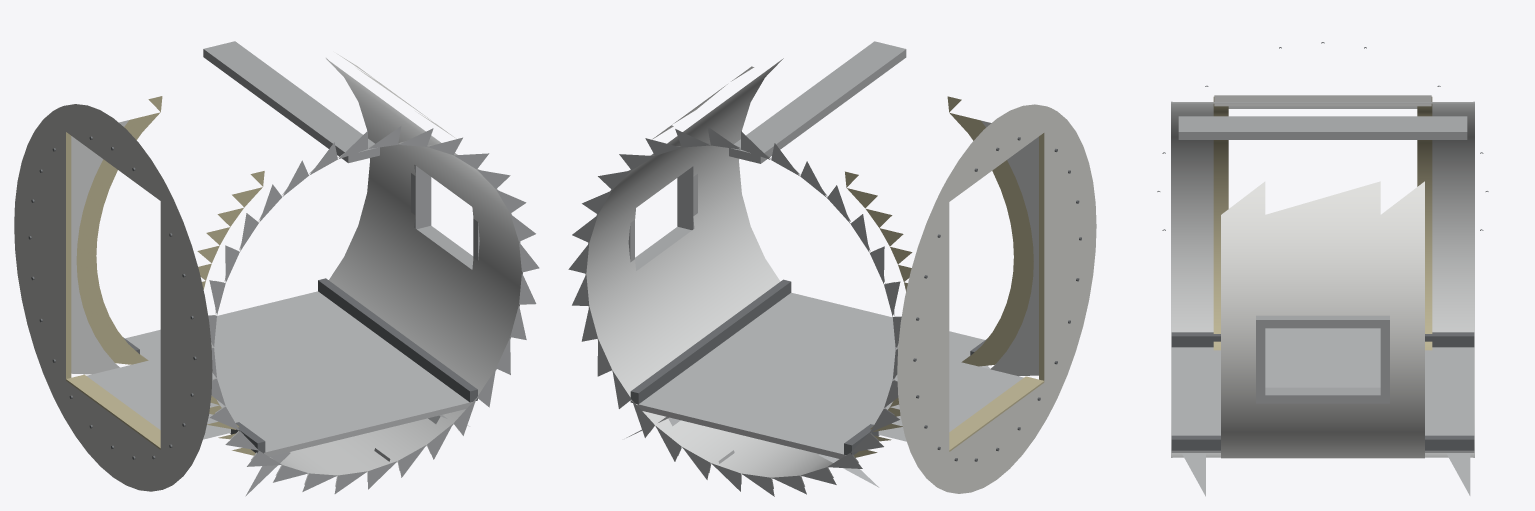
The model's file is habWindowJL_steel_meshin.glb.
The picture shows the model from 3 angles, left to right: view 1: azimuth 30°, elevation 25°; view 2: azimuth 150°, elevation 25°; view 3: azimuth 270°, elevation 25°; orthographic projection.
Parts seen in each view (by area): view 1: habWindowJL_steel_meshin; view 2: habWindowJL_steel_meshin; view 3: habWindowJL_steel_meshin.
Boxes of the visible parts, x1,y1,x2,y2 form: habWindowJL_steel_meshin: (14, 41, 539, 496); habWindowJL_steel_meshin: (568, 41, 1096, 496); habWindowJL_steel_meshin: (1157, 42, 1488, 496).
Size of the model in its own units: 2.66 by 2.6 by 2.6.
